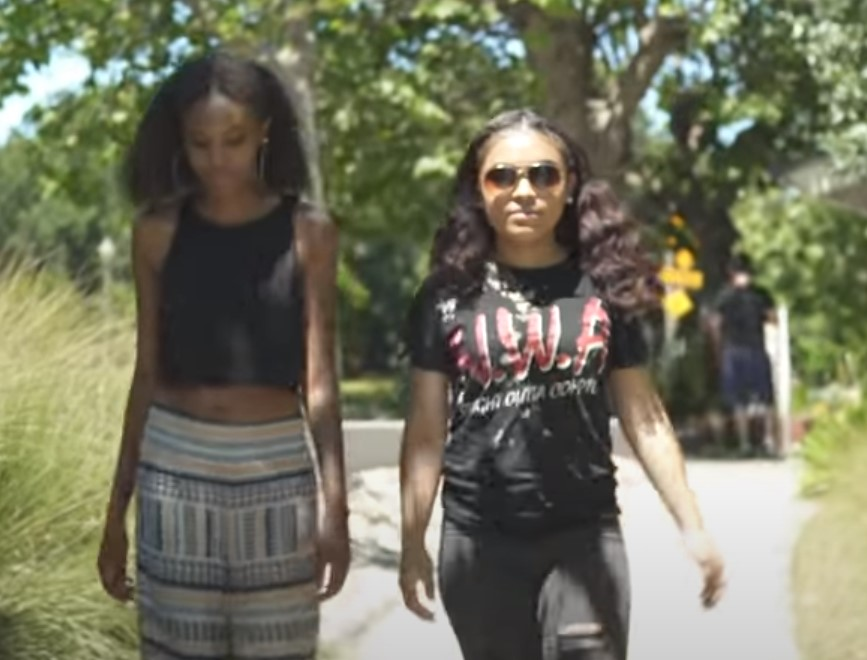face_no_mask: (166, 53, 279, 206), (474, 112, 576, 255)
